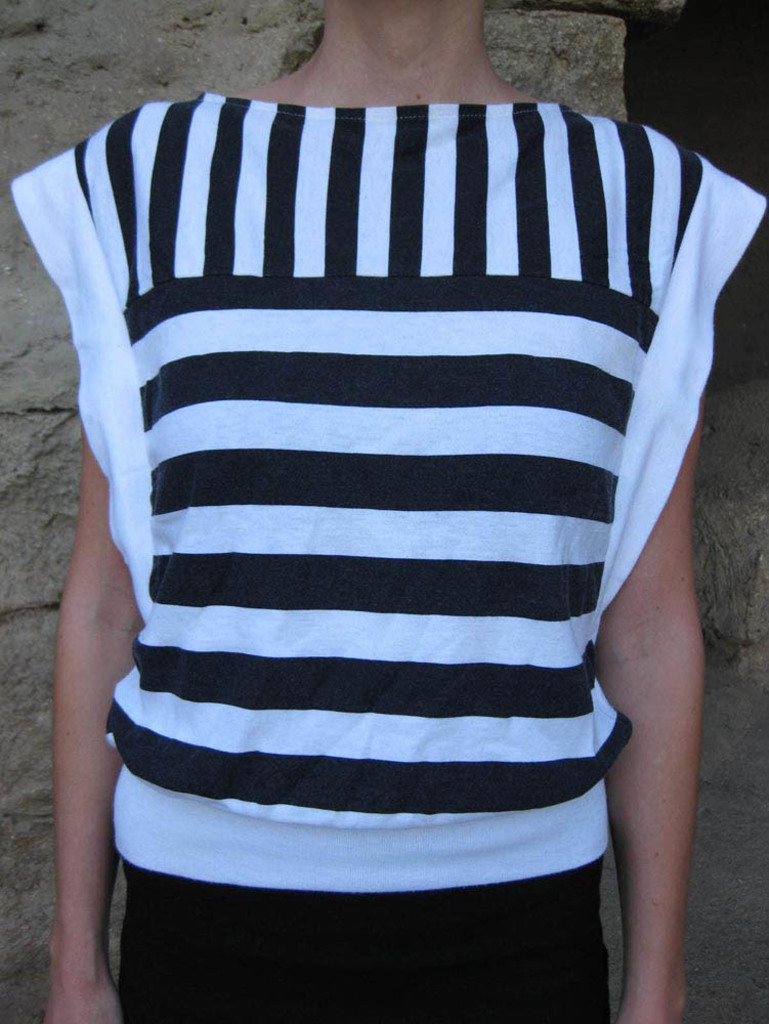Person: (11, 0, 767, 1024)
